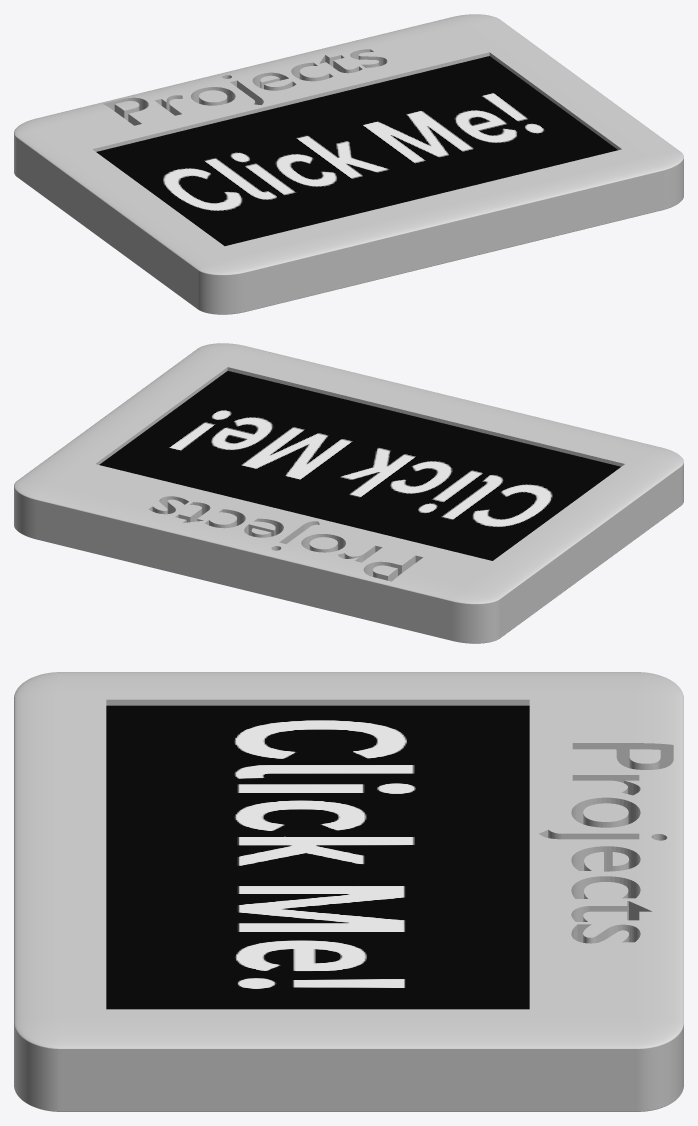
File: Projects.glb
3 renders of one model, top to bottom at view 1: azimuth 30°, elevation 25°; view 2: azimuth 150°, elevation 25°; view 3: azimuth 270°, elevation 25°, orthographic. The views are drawn at different scales.
Visible parts, largest first — view 1: Cube; view 2: Cube; view 3: Cube.
Boxes of the visible parts, x1=… form: Cube: x1=14, y1=14, x2=683, y2=314; Cube: x1=14, y1=343, x2=683, y2=643; Cube: x1=14, y1=672, x2=683, y2=1111.
Size of the model in its own units: 3.91 by 0.3511 by 2.94.
Materials: 3 (1 with a texture image).
